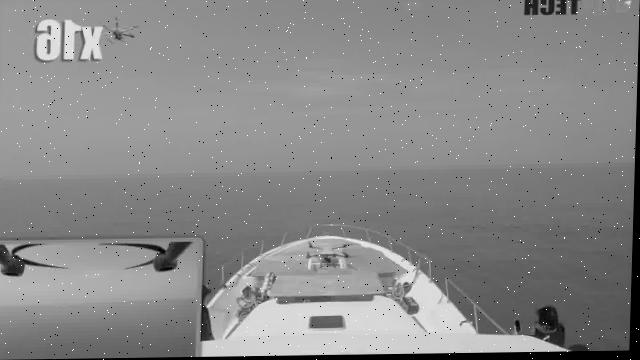drone: (306, 235, 360, 269), (105, 12, 139, 51)
